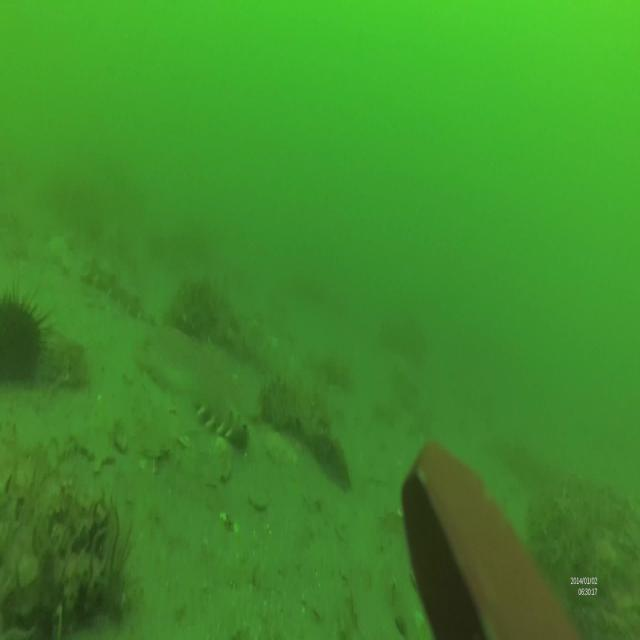echinus: (1, 281, 51, 391)
holothurian: (84, 250, 144, 320), (195, 386, 249, 452)
